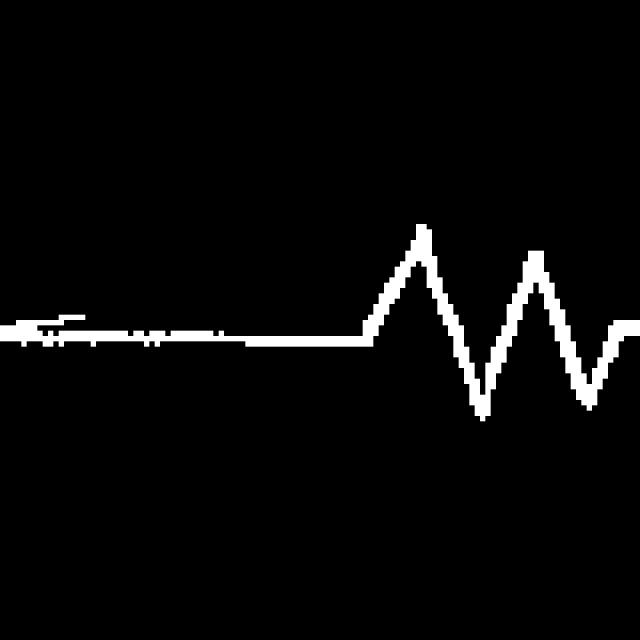resistor: (352, 192, 640, 432)
